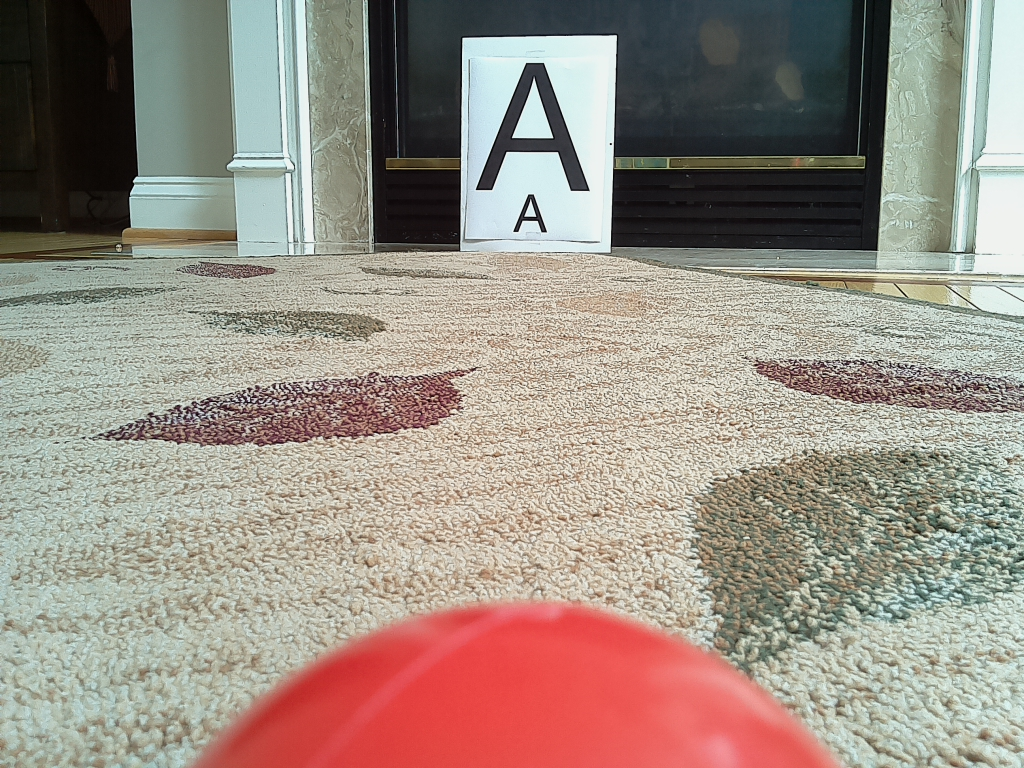letter: (476, 64, 591, 191)
